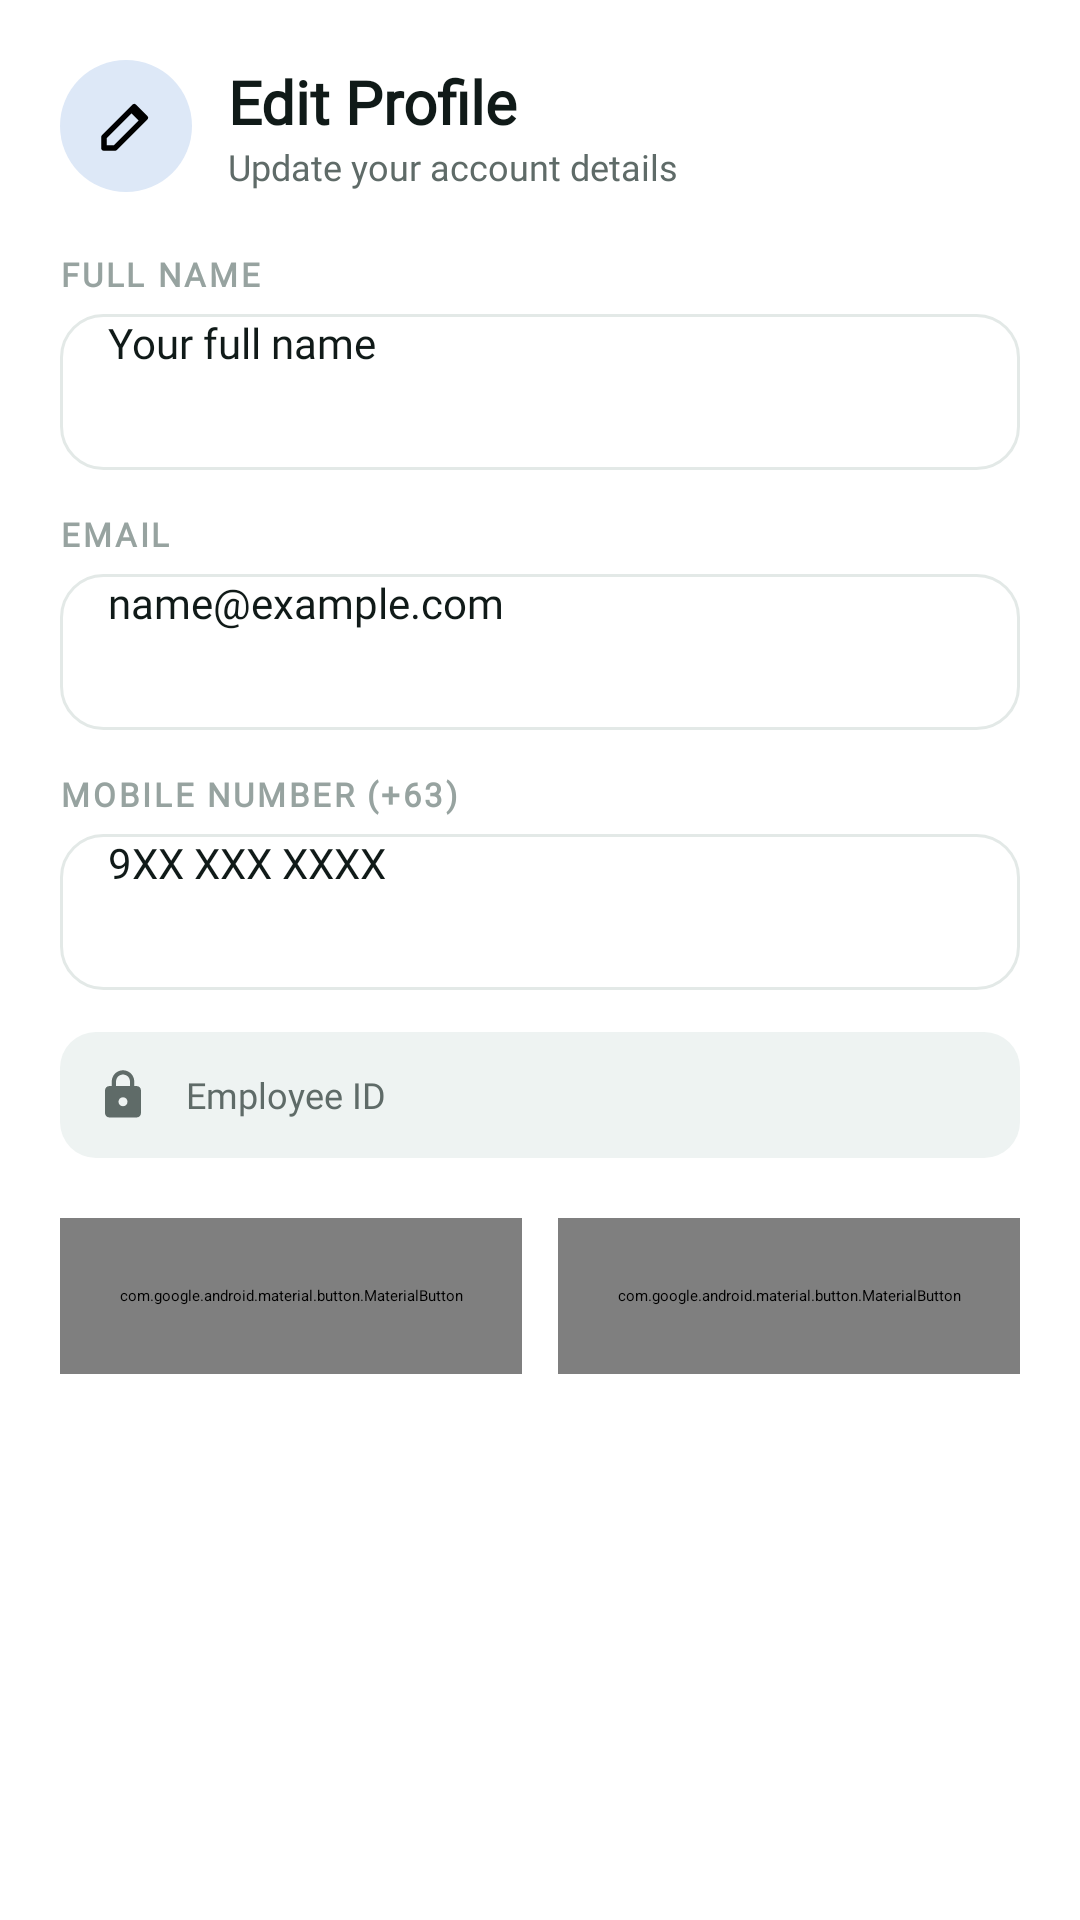

Icons on this 1080*1920 Android screen, each with its box as [x1,y1,x2,y2]:
lock: [105,1070,141,1118]
